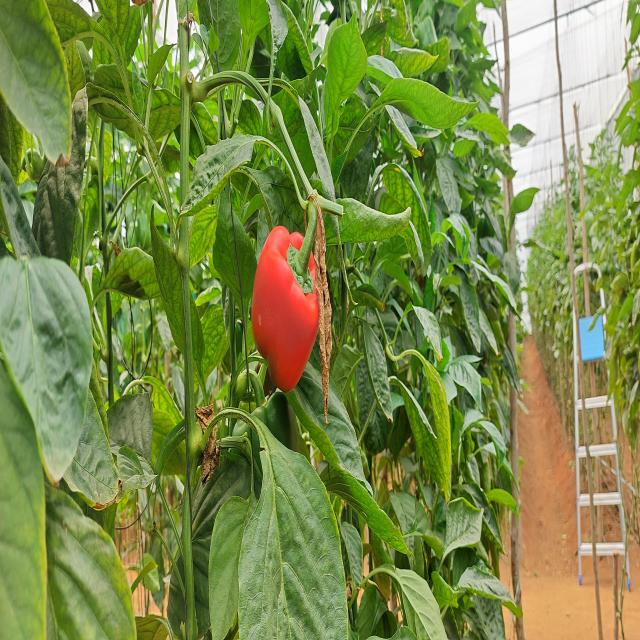Red-Ready-to-Harvest: (249, 206, 330, 401)
